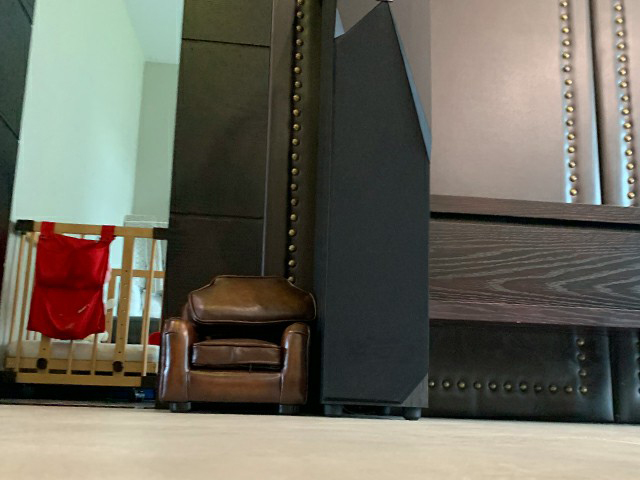sofa: (157, 273, 320, 416)
